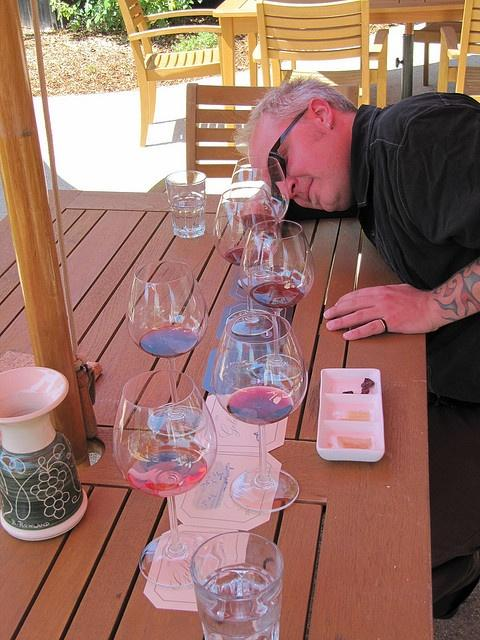Kursi: (113, 0, 227, 148), (255, 0, 389, 110)
